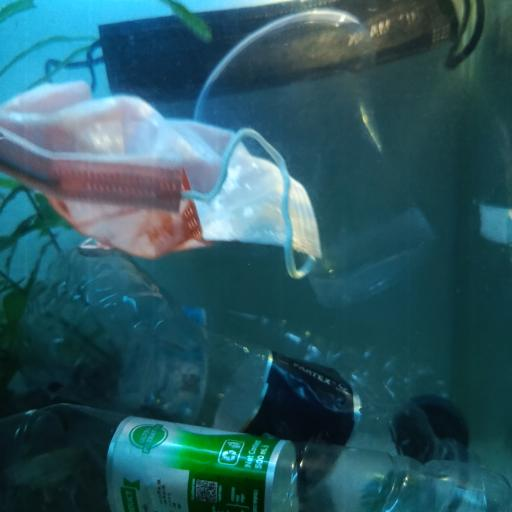bottle_cap: (394, 398, 470, 471)
mask: (0, 77, 322, 279), (86, 0, 488, 97)
plastic_bottle: (20, 239, 478, 471), (0, 405, 512, 512), (174, 299, 450, 410)
plastic_cup: (194, 10, 436, 309)
